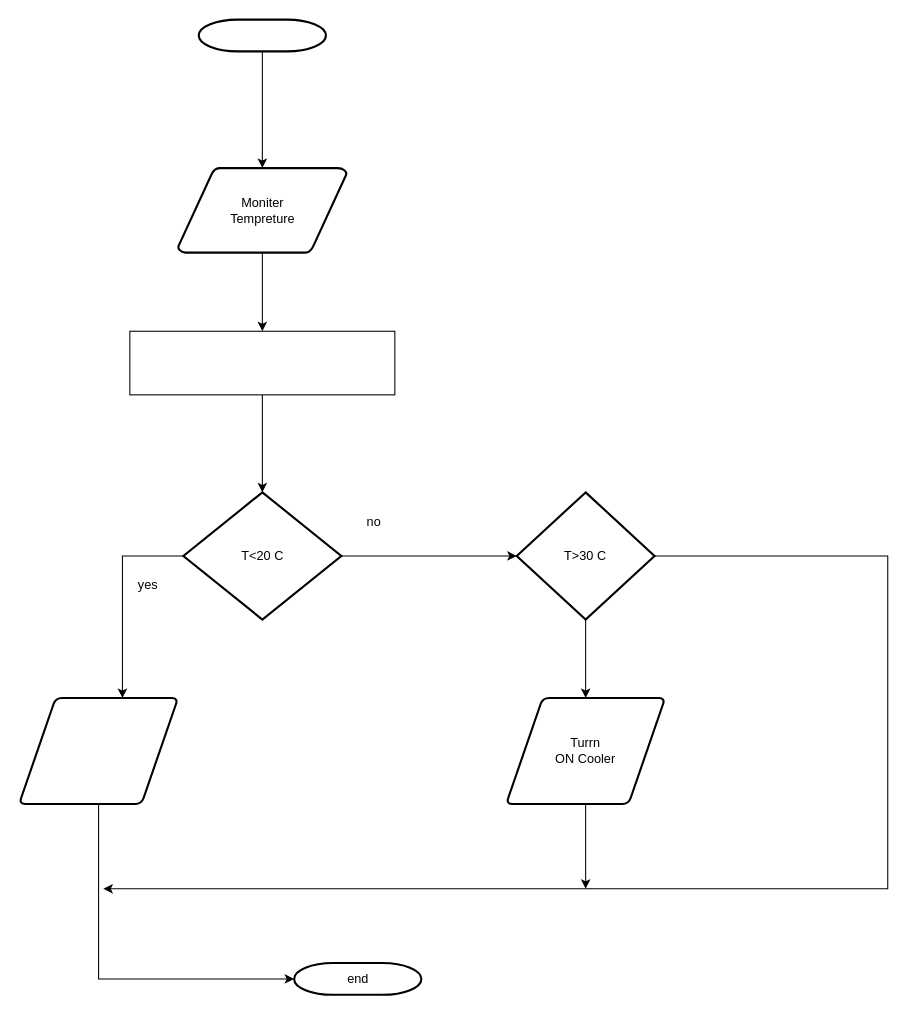
This 915x1013 diagram has some shape labels left out. The shapes that lost their labels are listed below. From the top down, each one's centre as x and y in pixels, then its label:
At point 261,35: "start".
At point 262,362: "Temp=DHT.temp".
At point 98,750: "Turrn OFF Cooler".
